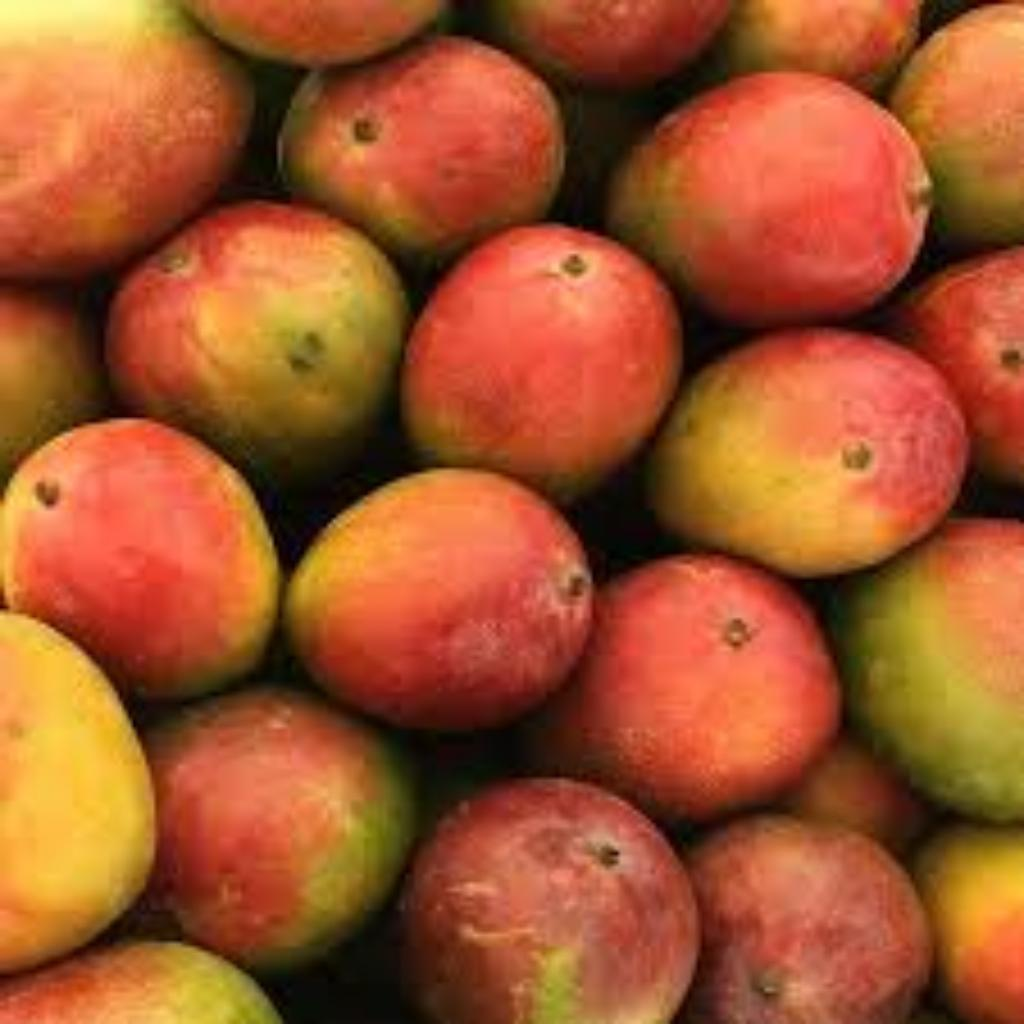mango: (521, 553, 859, 841), (640, 324, 988, 580), (624, 54, 938, 323), (382, 220, 675, 506), (147, 687, 430, 972), (389, 772, 705, 1024), (291, 469, 592, 733), (95, 203, 407, 451), (276, 19, 574, 264), (0, 408, 270, 678), (684, 821, 931, 1024)
